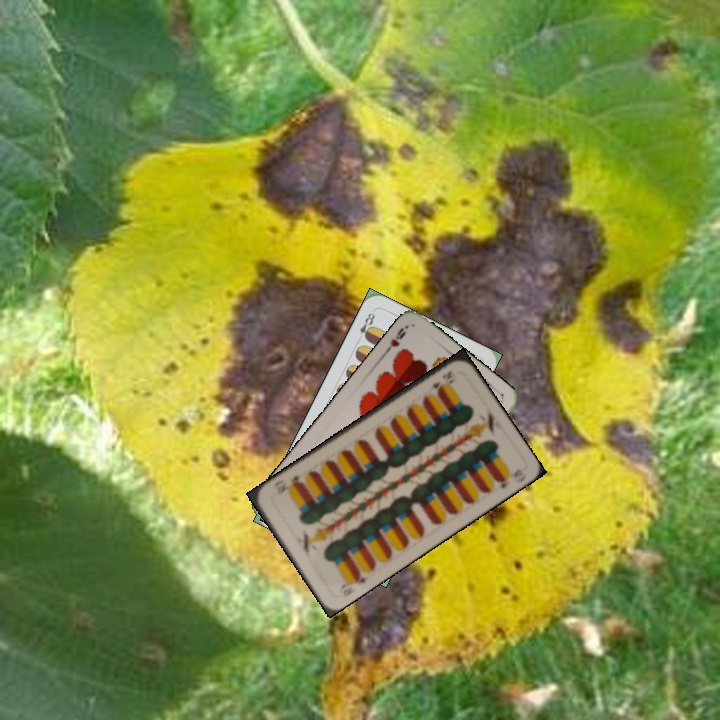E10: (335, 568, 370, 599), (423, 366, 455, 395)
E8: (353, 309, 378, 345)
H9: (381, 322, 410, 356)
